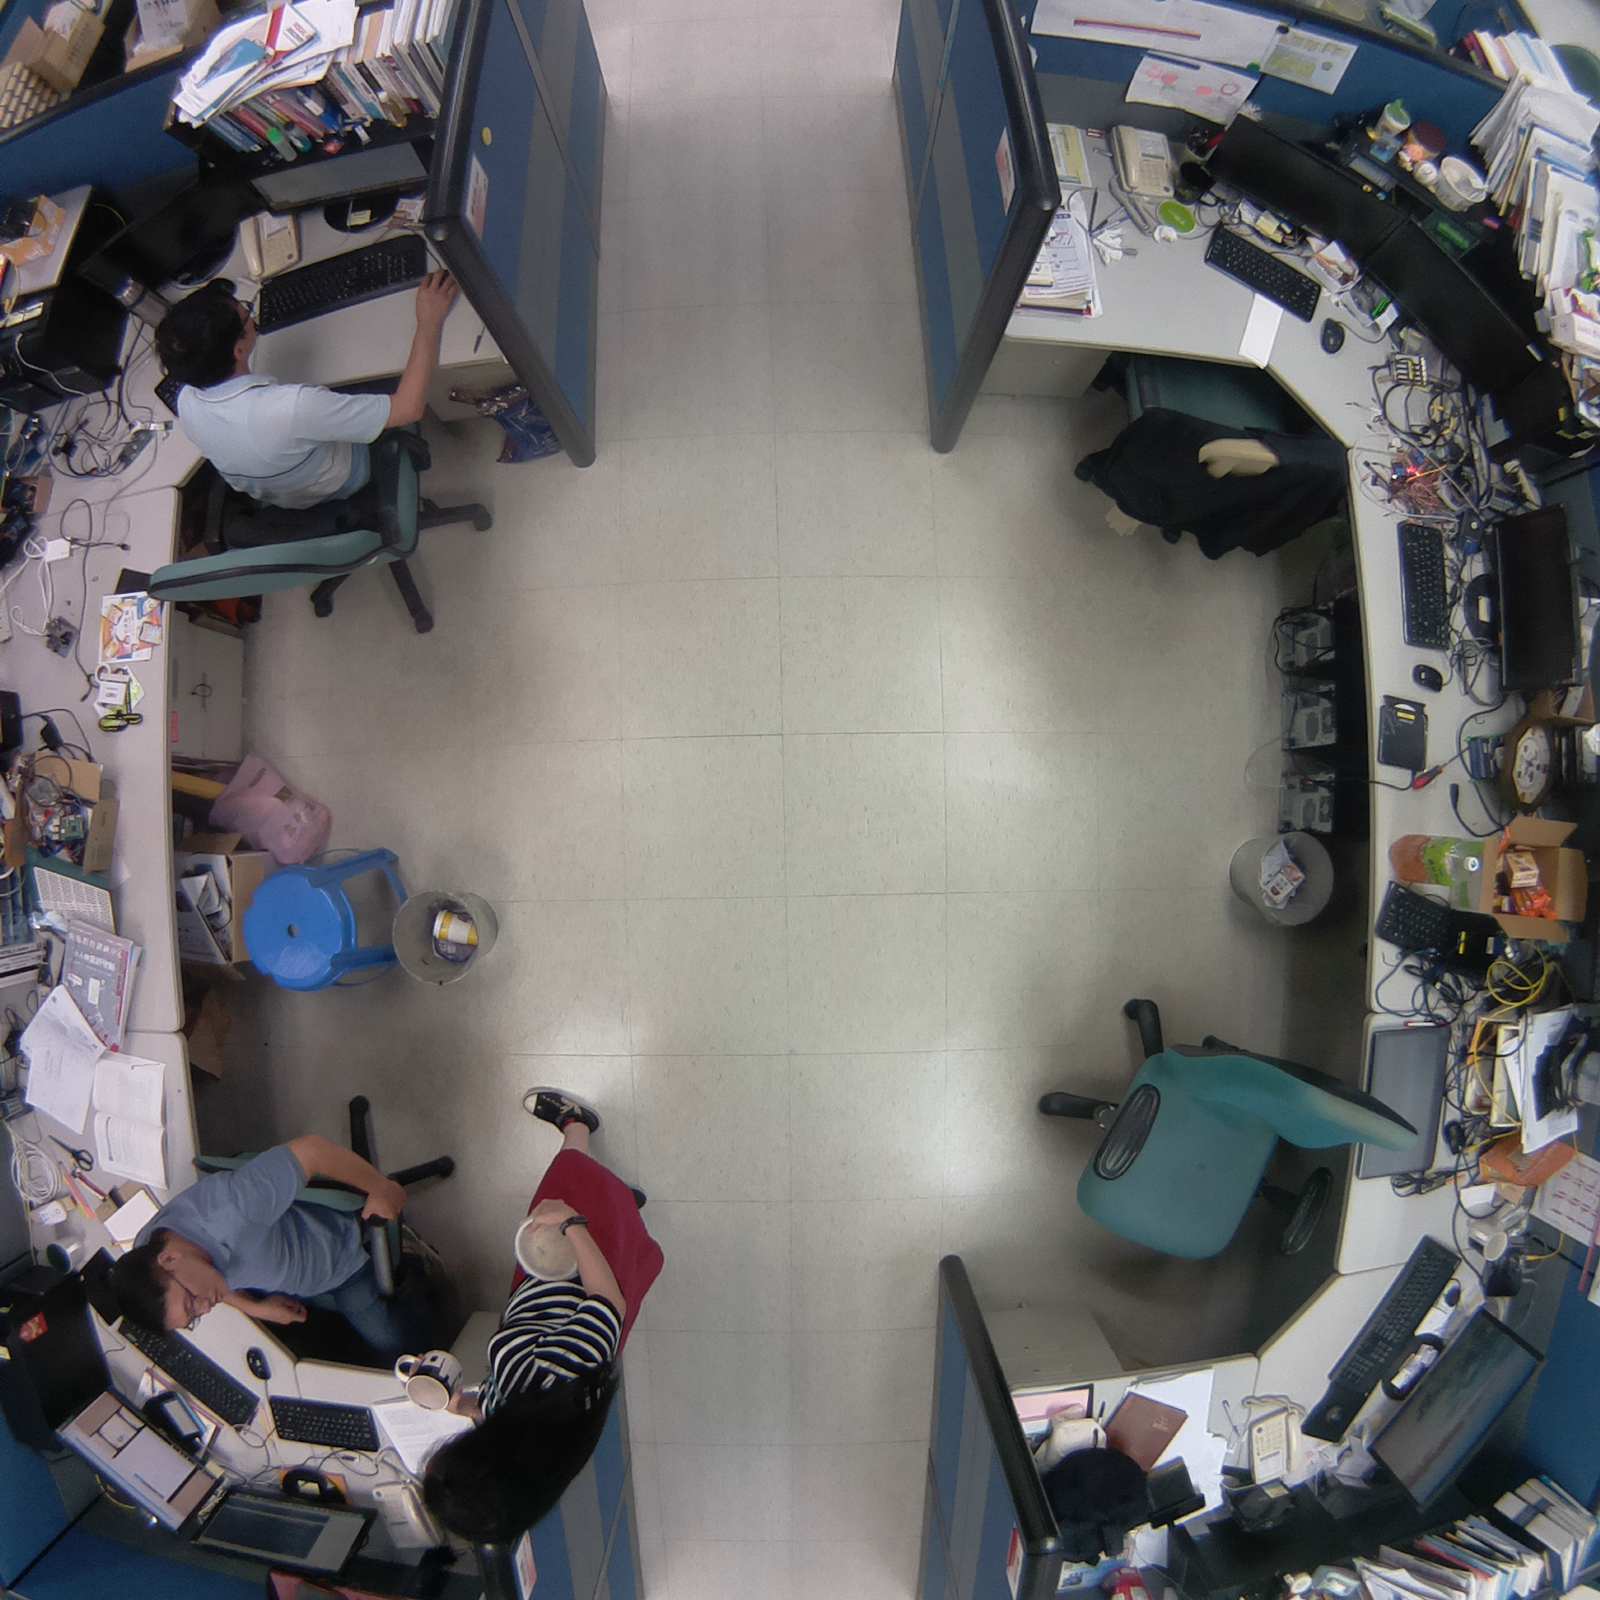chair: (1019, 981, 1435, 1283), (1063, 319, 1378, 583)
head: (412, 1400, 610, 1549), (103, 1231, 232, 1343), (141, 271, 261, 380)
sitting: (129, 255, 514, 660), (88, 1083, 460, 1363)
standing: (415, 1065, 681, 1566)
